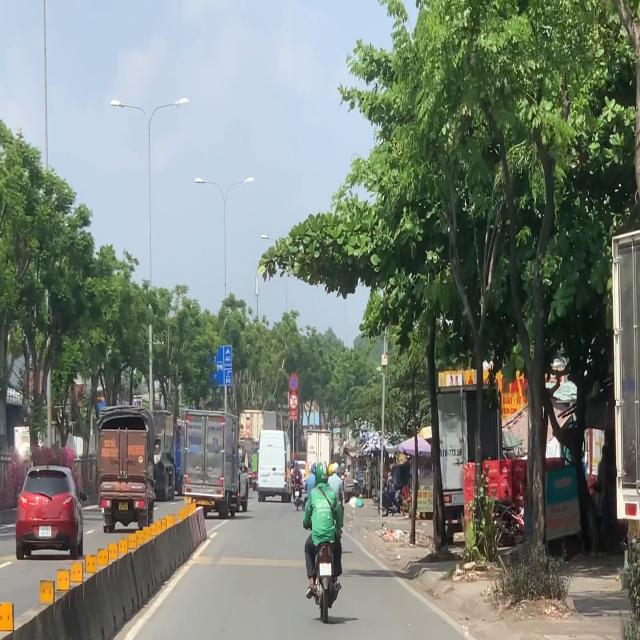Cam con lai: (288, 391, 299, 410)
Cam dung va do: (288, 373, 299, 392)
